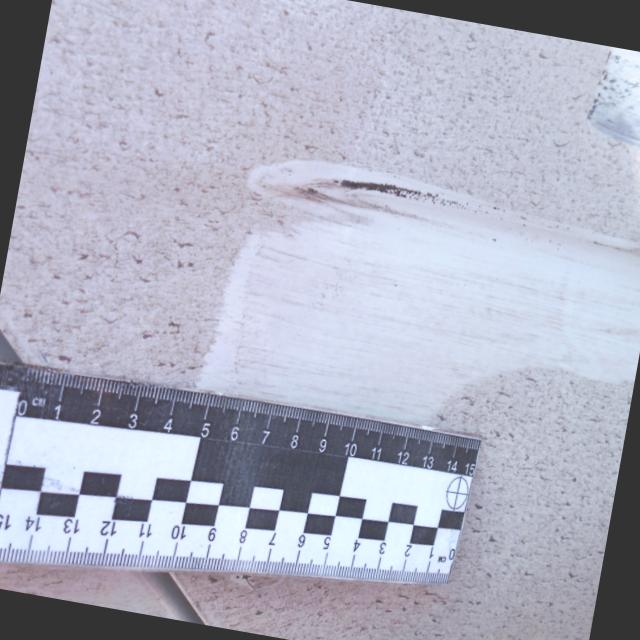Rayure: (299, 165, 464, 220)
